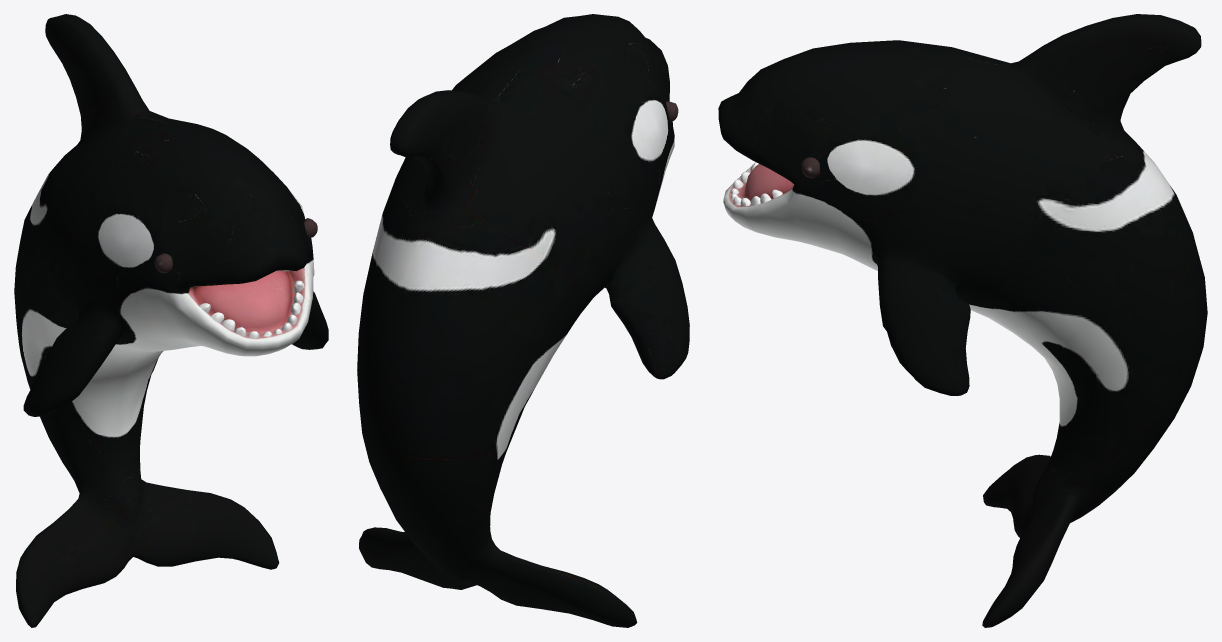
The model's file is orca.glb.
3 renders of one model, left to right at view 1: azimuth 30°, elevation 25°; view 2: azimuth 150°, elevation 25°; view 3: azimuth 270°, elevation 25°, orthographic. The views are drawn at different scales.
Visible parts, largest first — view 1: geometry_0; view 2: geometry_0; view 3: geometry_0.
Part boxes in pixels (x1,y1,x2,y2): geometry_0: (14, 14, 328, 627); geometry_0: (357, 14, 689, 627); geometry_0: (718, 14, 1207, 627).
Bounding box in the file's own units: 0.5513 × 0.9512 × 0.7676.
1 material, 1 textured.
